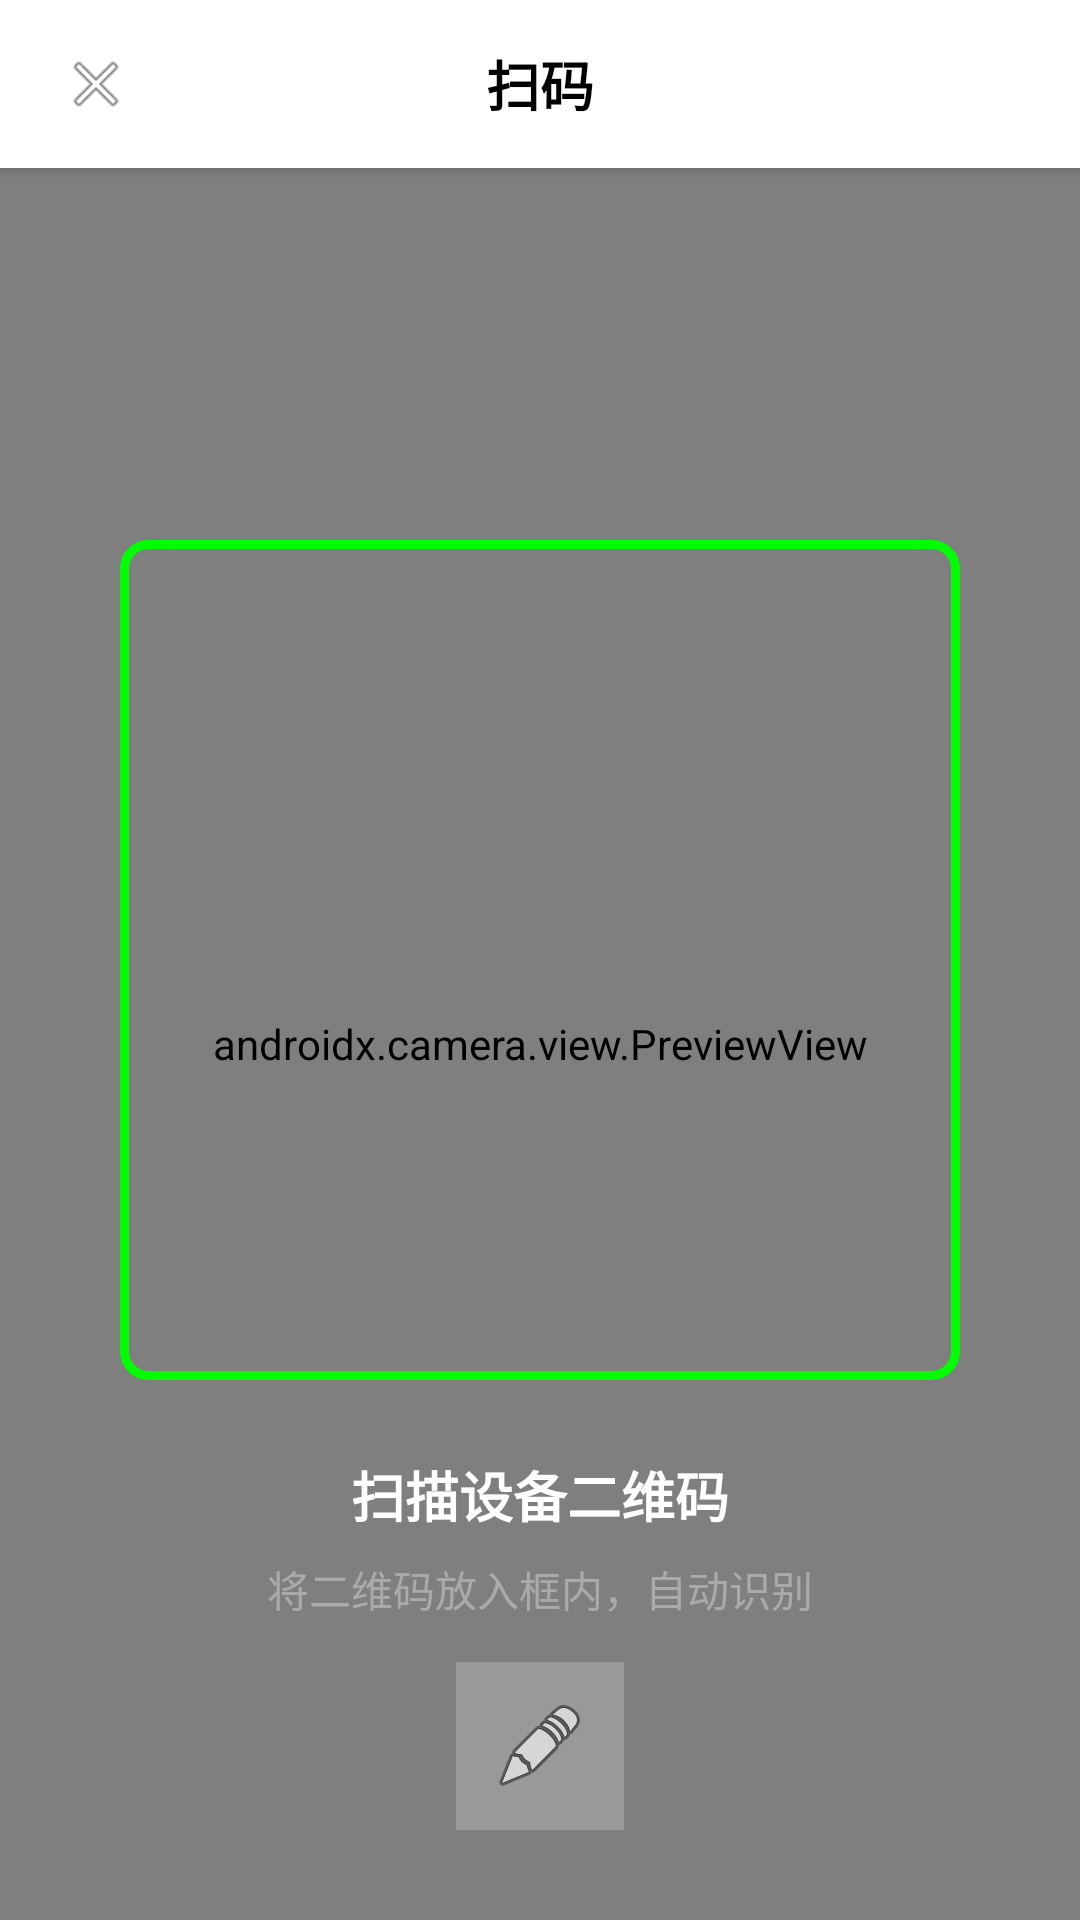

Where icons sit on this 1080px x 1920px app screen, as box(x1, y1, x2, y2):
关闭: box(73, 61, 119, 107)
